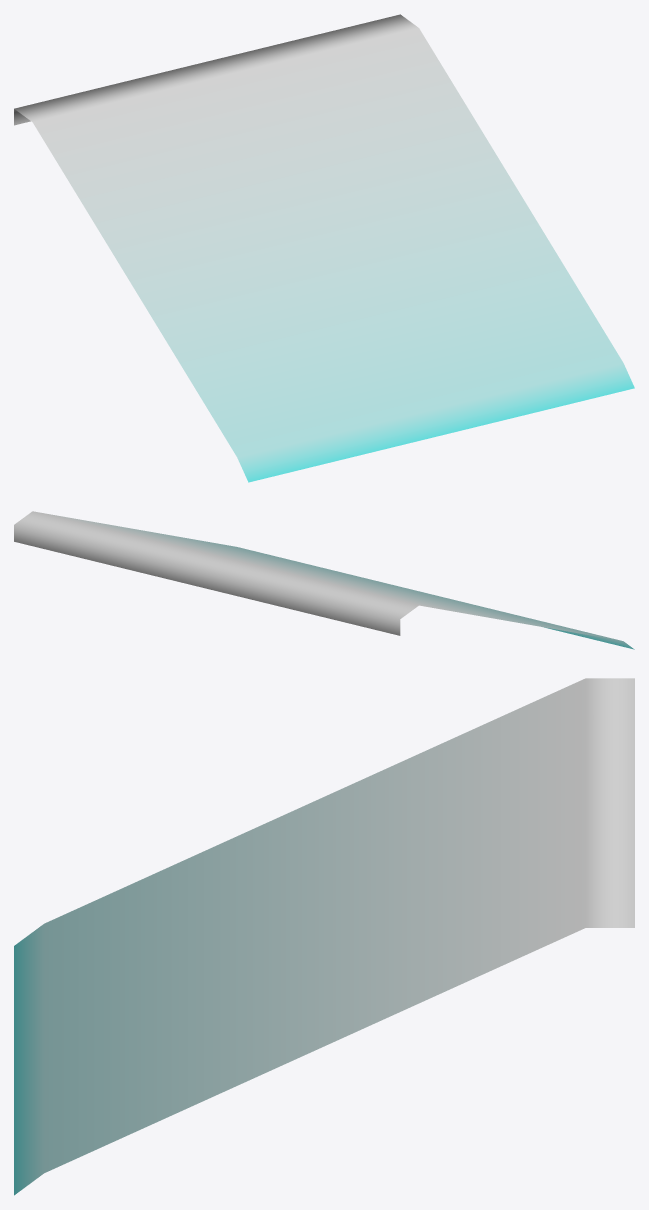
The model's file is SM_SmoothStairs4mCOL.fbx.
3 renders of one model, top to bottom at view 1: azimuth 30°, elevation 25°; view 2: azimuth 150°, elevation 25°; view 3: azimuth 270°, elevation 25°, orthographic. The views are drawn at different scales.
Visible parts, largest first — view 1: SM_SmoothStairs4mCOL; view 2: SM_SmoothStairs4mCOL; view 3: SM_SmoothStairs4mCOL.
Boxes of the visible parts, x1=… form: SM_SmoothStairs4mCOL: x1=14, y1=14, x2=634, y2=482; SM_SmoothStairs4mCOL: x1=14, y1=511, x2=634, y2=649; SM_SmoothStairs4mCOL: x1=14, y1=678, x2=634, y2=1195.
Size of the model in its own units: 400 by 200 by 420.
